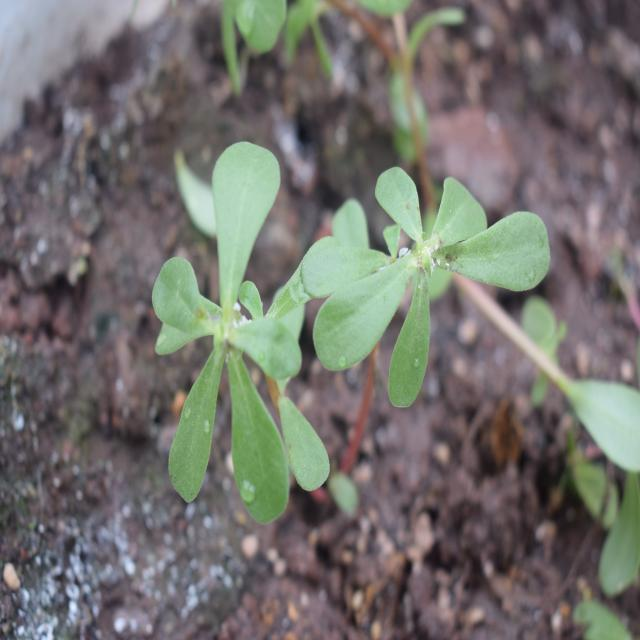purslane: (110, 124, 558, 514)
